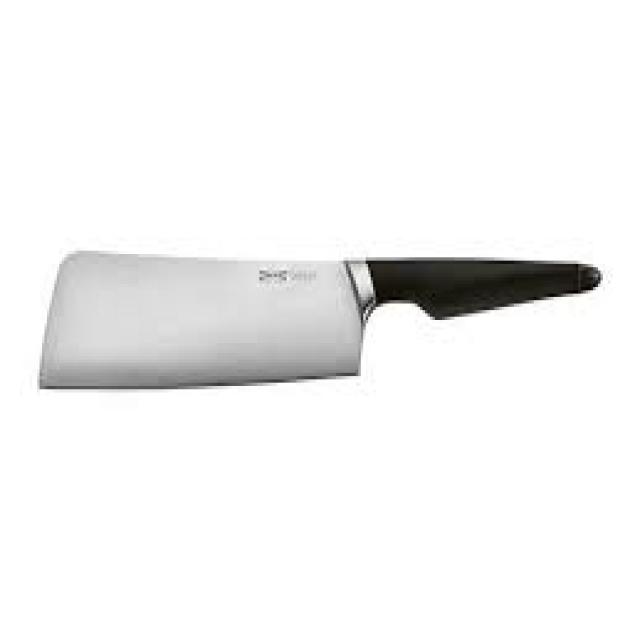Knife: (40, 247, 603, 389)
